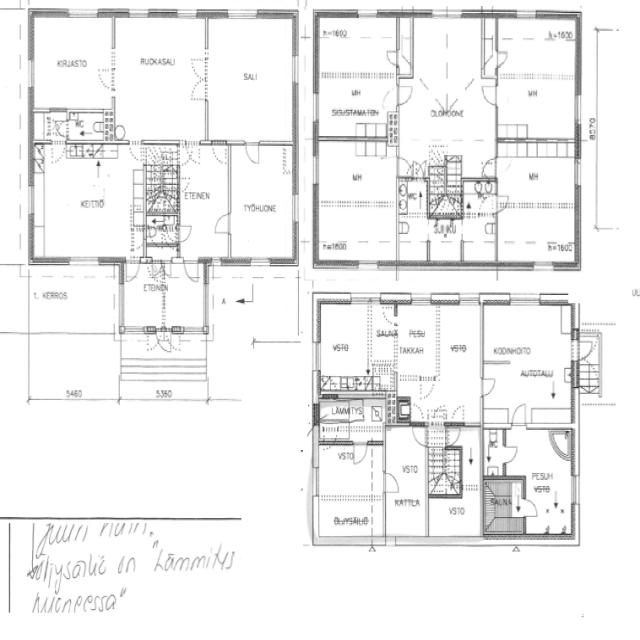door: (382, 456, 407, 504), (188, 50, 208, 101), (549, 427, 573, 460), (150, 325, 172, 355), (576, 333, 598, 362), (96, 64, 116, 92), (509, 400, 528, 429), (379, 83, 398, 112), (212, 209, 232, 236), (480, 79, 499, 107), (448, 407, 464, 440), (183, 256, 201, 284), (381, 469, 401, 494), (396, 80, 415, 106), (351, 439, 369, 466), (210, 139, 228, 166), (183, 137, 201, 164), (381, 302, 398, 329), (244, 139, 261, 165), (124, 258, 141, 284), (479, 374, 498, 397), (522, 495, 540, 518), (502, 442, 520, 465), (418, 377, 435, 401), (176, 222, 194, 244), (496, 154, 514, 176), (411, 424, 428, 447), (50, 140, 66, 164), (128, 138, 144, 162), (481, 155, 499, 176), (445, 424, 462, 446), (396, 153, 412, 176), (494, 192, 510, 214), (494, 48, 511, 68), (54, 117, 70, 137), (450, 403, 465, 424), (409, 401, 424, 422), (384, 47, 400, 66), (150, 257, 164, 278)
window: (65, 253, 103, 270), (224, 7, 260, 21), (429, 7, 465, 21), (66, 6, 100, 20), (508, 292, 542, 306), (572, 90, 584, 127), (572, 153, 584, 189), (312, 337, 323, 374), (290, 50, 301, 86), (290, 190, 301, 226), (174, 6, 200, 21), (310, 464, 321, 499), (348, 292, 380, 304), (26, 180, 36, 218), (457, 291, 482, 306), (570, 470, 580, 507), (310, 150, 320, 187), (122, 324, 148, 338), (26, 54, 36, 90), (531, 258, 556, 272), (248, 254, 273, 268), (126, 6, 152, 19), (180, 324, 206, 337), (356, 257, 380, 271), (311, 88, 320, 124), (409, 292, 433, 305), (514, 8, 538, 21), (356, 7, 380, 19), (208, 254, 224, 268)
zone: (397, 12, 498, 170), (30, 144, 145, 259), (112, 13, 206, 142), (482, 301, 574, 426), (205, 14, 295, 141), (314, 138, 398, 264), (315, 14, 398, 140), (495, 16, 578, 142), (496, 140, 578, 264), (226, 142, 297, 262), (30, 14, 116, 110), (205, 267, 301, 345), (315, 441, 387, 540), (177, 140, 230, 262), (317, 300, 385, 393), (518, 427, 574, 538), (383, 422, 427, 537), (395, 302, 439, 387), (316, 396, 385, 441), (462, 178, 497, 262), (366, 304, 396, 386), (483, 476, 525, 534), (145, 144, 179, 212), (427, 495, 482, 537), (427, 438, 463, 496), (67, 108, 108, 149), (397, 210, 429, 262), (428, 216, 462, 262), (397, 177, 428, 219), (32, 108, 68, 144), (146, 212, 178, 252), (483, 424, 506, 477), (395, 398, 411, 422)
